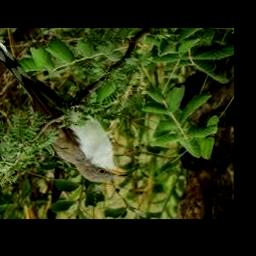Cuckoo: (0, 41, 132, 182)
